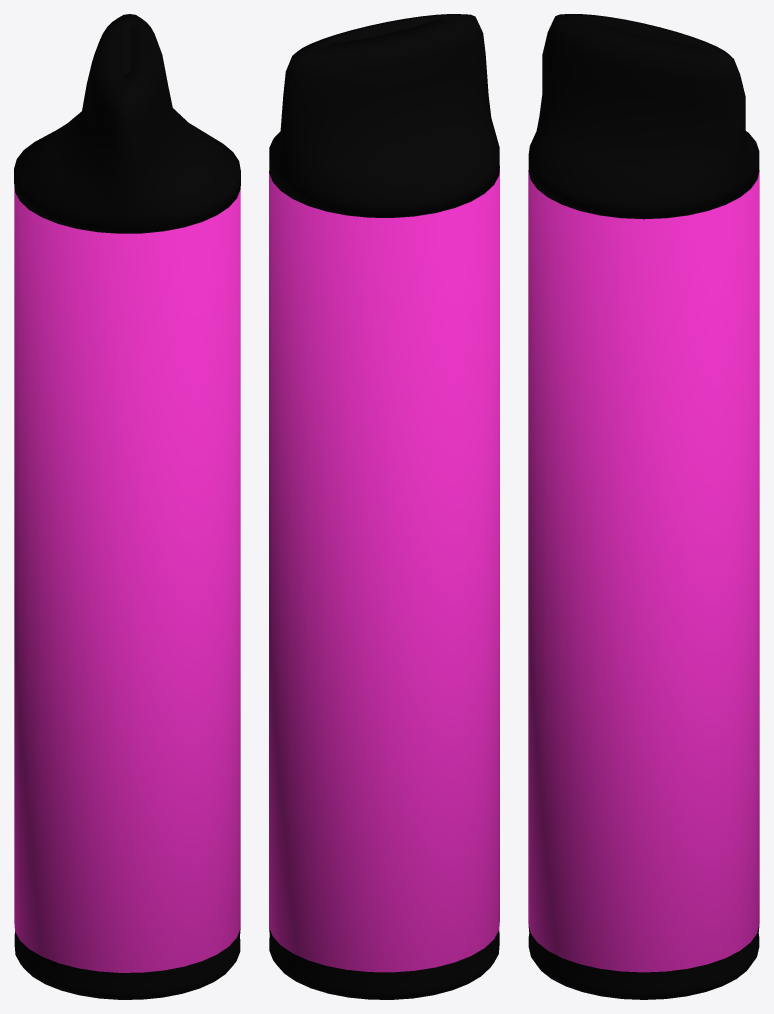
File: vape 14 MULTI.fbx
3 views of the same model, side by side, from view 1: azimuth 30°, elevation 25°; view 2: azimuth 150°, elevation 25°; view 3: azimuth 270°, elevation 25° (orthographic). The views are drawn at different scales.
Parts seen in each view (by area): view 1: Circle; view 2: Circle; view 3: Circle.
Part boxes in pixels (bbox=[...]): Circle: bbox=[14, 14, 240, 999]; Circle: bbox=[269, 14, 499, 999]; Circle: bbox=[528, 14, 759, 999].
Bounding box in the file's own units: 206 × 906 × 206.
